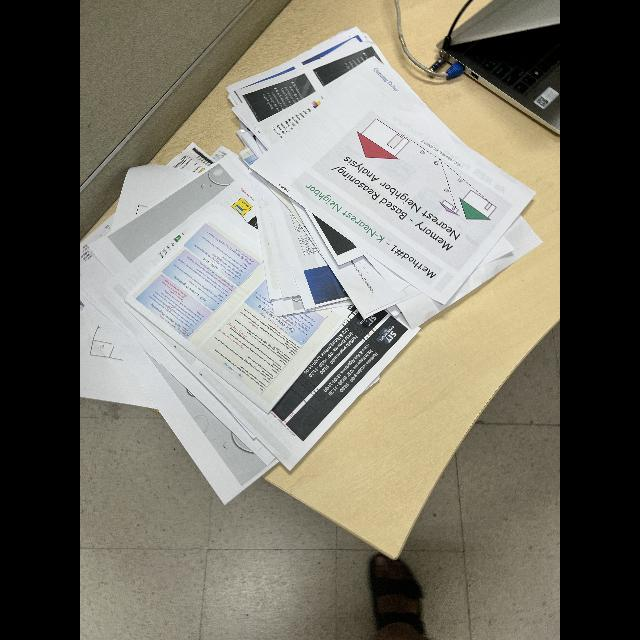reuseable_paper: (80, 22, 544, 510)
